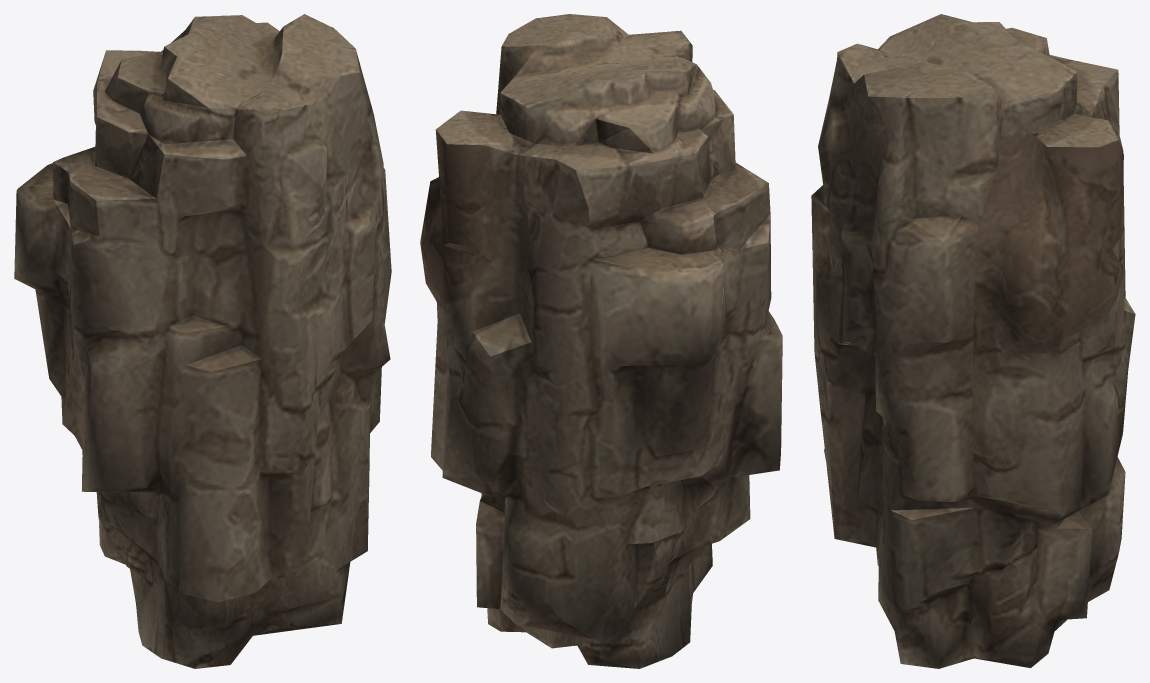
File: environment_stone_shuijing_001_g.FBX
3 views of the same model, side by side, from view 1: azimuth 30°, elevation 25°; view 2: azimuth 150°, elevation 25°; view 3: azimuth 270°, elevation 25° (orthographic). The views are drawn at different scales.
Visible parts, largest first — view 1: environment_stone_shuijing_001_g; view 2: environment_stone_shuijing_001_g; view 3: environment_stone_shuijing_001_g.
Boxes of the visible parts, box(x1,y1,x2,y2) form: environment_stone_shuijing_001_g: box(14, 14, 391, 668); environment_stone_shuijing_001_g: box(420, 14, 782, 668); environment_stone_shuijing_001_g: box(811, 14, 1135, 668).
Bounding box in the file's own units: 308 × 560 × 276.
1 material, 1 textured.
